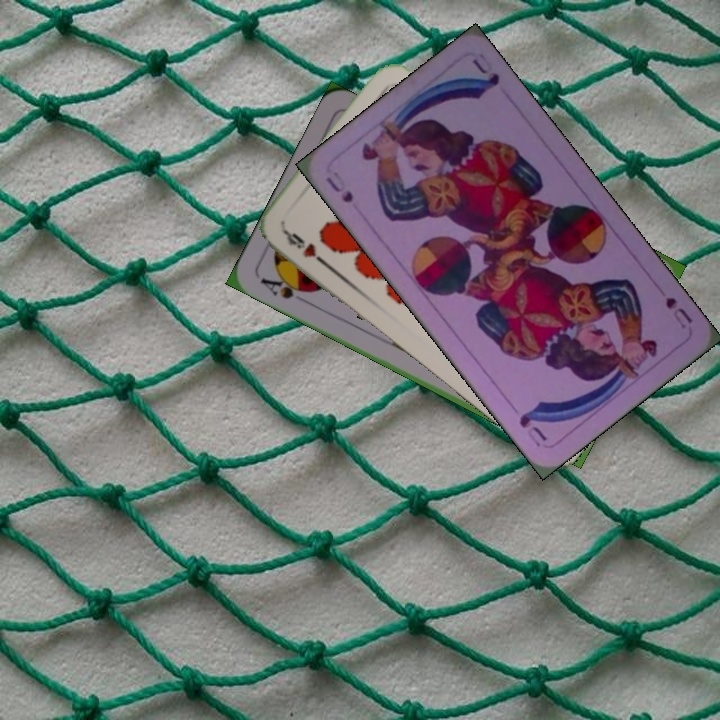H9: (278, 225, 329, 268)
SA: (256, 270, 315, 302)
SU: (321, 167, 356, 206), (661, 293, 695, 332)
